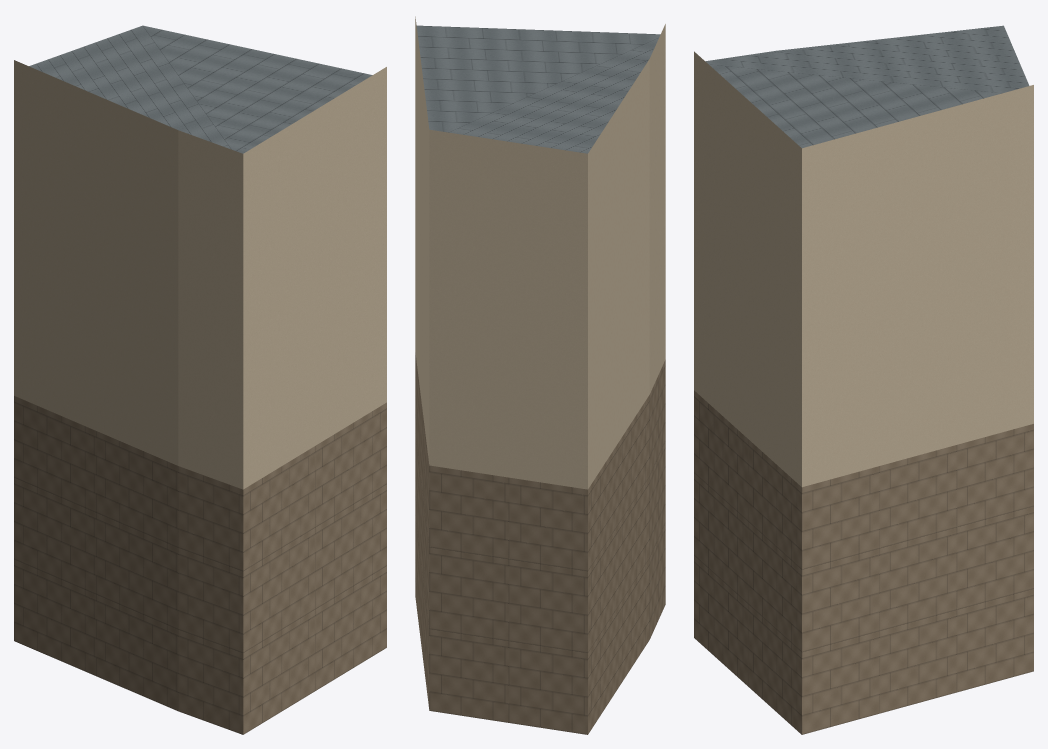
File: bld_c38_-11_542.gltf
3 renders of one model, left to right at view 1: azimuth 30°, elevation 25°; view 2: azimuth 150°, elevation 25°; view 3: azimuth 270°, elevation 25°, orthographic.
Parts seen in each view (by area): view 1: bld_c38_-11_542; view 2: bld_c38_-11_542; view 3: bld_c38_-11_542.
Boxes of the visible parts, x1,y1,x2,y2 form: bld_c38_-11_542: (14,25,386,734); bld_c38_-11_542: (415,16,665,734); bld_c38_-11_542: (694,25,1033,734).
Bounding box in the file's own units: 5.93 × 12.08 × 6.34.
Materials: 4 (4 with a texture image).
